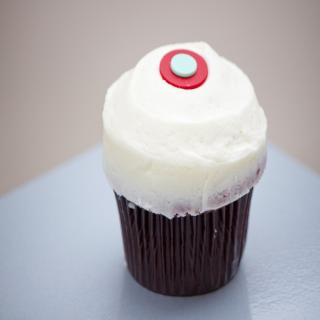Muffin: (98, 34, 275, 310)
